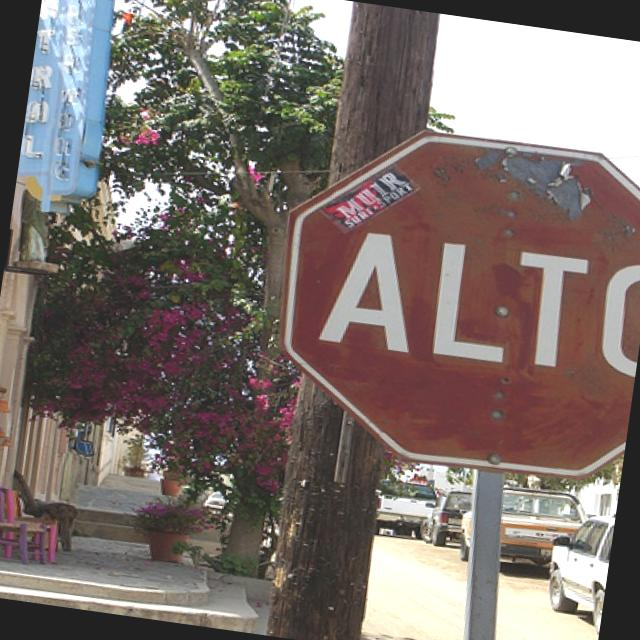Vehicle: (455, 479, 591, 577), (537, 498, 617, 636), (372, 478, 440, 542), (418, 484, 472, 554)
